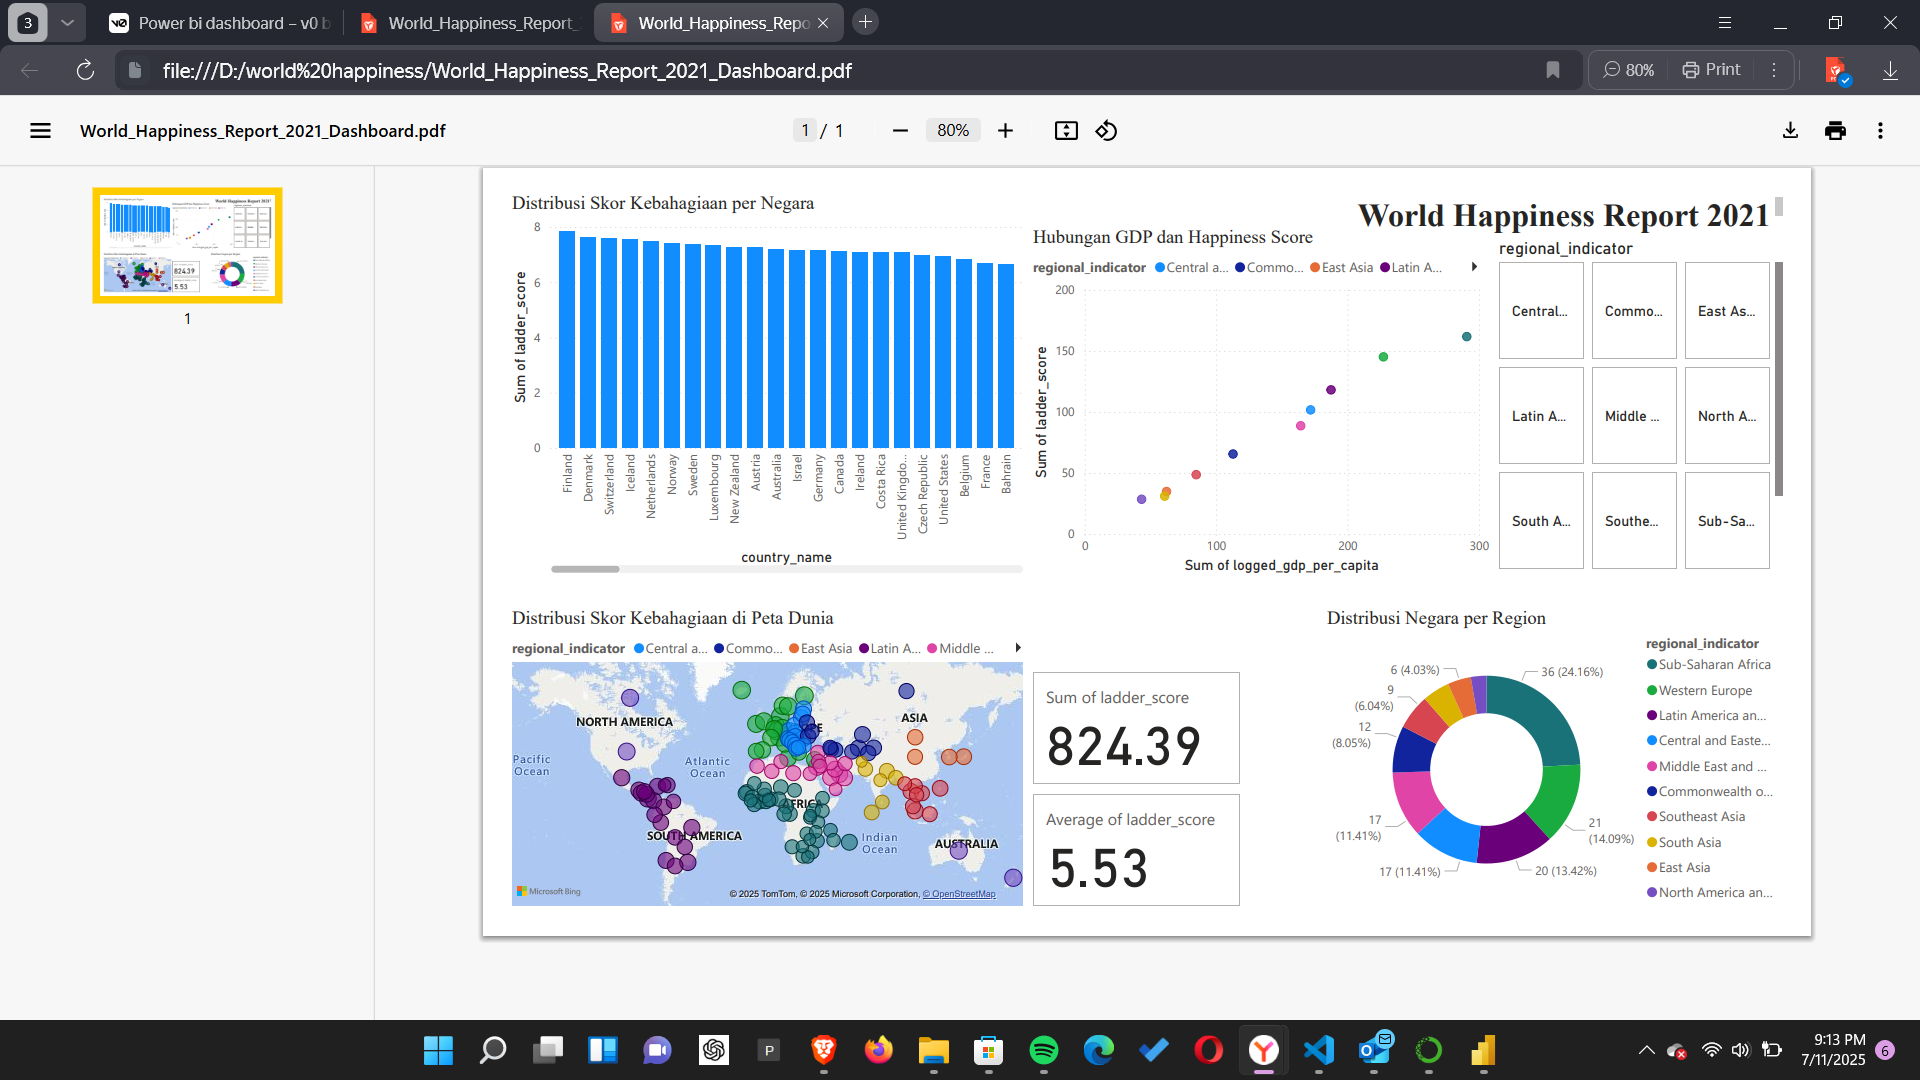

What the dashboard file says about the page in this screenshot:
{"tool":"powerbi","page":{"name":"Page 1","canvas":[1280,720],"ordinal":0},"visuals":[{"type":"clusteredColumnChart","title":"Distribusi Skor Kebahagiaan per Negara","fields":{"Y":["Sum(world_happiness_clean_2021.ladder_score)"],"Category":["world_happiness_clean_2021.country_name"]},"box":[0,0,521.1,385.6],"z":0},{"type":"scatterChart","title":"Hubungan GDP dan Happiness Score","fields":{"X":["Sum(world_happiness_clean_2021.logged_gdp_per_capita)"],"Y":["Sum(world_happiness_clean_2021.ladder_score)"],"Series":["world_happiness_clean_2021.regional_indicator"]},"box":[521.1,34.4,465.6,351.1],"z":1000},{"type":"map","title":"Distribusi Skor Kebahagiaan di Peta Dunia","fields":{"Category":["world_happiness_clean_2021.country_name"],"Size":["Sum(world_happiness_clean_2021.ladder_score)"],"Series":["world_happiness_clean_2021.regional_indicator"]},"box":[0,414.9,520.9,304.5],"z":2000},{"type":"advancedSlicerVisual","fields":{"Values":["world_happiness_clean_2021.regional_indicator"]},"box":[986.6,46.3,294,338.8],"z":3000},{"type":"donutChart","title":" Distribusi Negara per Region","fields":{"Category":["world_happiness_clean_2021.regional_indicator"],"Y":["CountNonNull(world_happiness_clean_2021.country_name)"]},"box":[814.9,414.9,465.7,304.5],"z":4000},{"type":"cardVisual","fields":{"Data":["Avg(world_happiness_clean_2021.ladder_score)"]},"box":[520.9,597,217.9,122.4],"z":5000},{"type":"cardVisual","fields":{"Data":["Sum(world_happiness_clean_2021.ladder_score)"]},"box":[520.9,474.6,217.9,122.4],"z":5001},{"type":"textbox","box":[841.8,0,438.8,46.3],"z":5002}]}

Visuals, with their boxes on the page's 1280x720 design canvas (x1, y1, x2, y2). These are canvas units, not pixel positions in the 1920x1080 screenshot, which may show the page scaled, cropped or inside an application window:
"Distribusi Skor Kebahagiaan per Negara" clusteredColumnChart: x1=0 y1=0 x2=521 y2=386
"Hubungan GDP dan Happiness Score" scatterChart: x1=521 y1=34 x2=987 y2=386
"Distribusi Skor Kebahagiaan di Peta Dunia" map: x1=0 y1=415 x2=521 y2=719
advancedSlicerVisual - world_happiness_clean_2021.regional_indicator: x1=987 y1=46 x2=1281 y2=385
" Distribusi Negara per Region" donutChart: x1=815 y1=415 x2=1281 y2=719
cardVisual - Avg(world_happiness_clean_2021.ladder_score): x1=521 y1=597 x2=739 y2=719
cardVisual - Sum(world_happiness_clean_2021.ladder_score): x1=521 y1=475 x2=739 y2=597
textbox: x1=842 y1=0 x2=1281 y2=46
